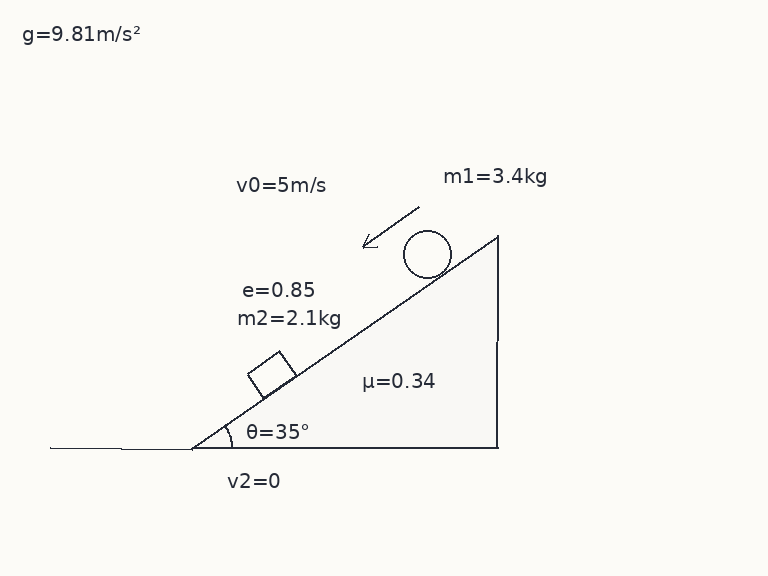ball: (401, 228, 453, 280)
block: (245, 349, 298, 400)
ramp: (190, 233, 499, 450)
